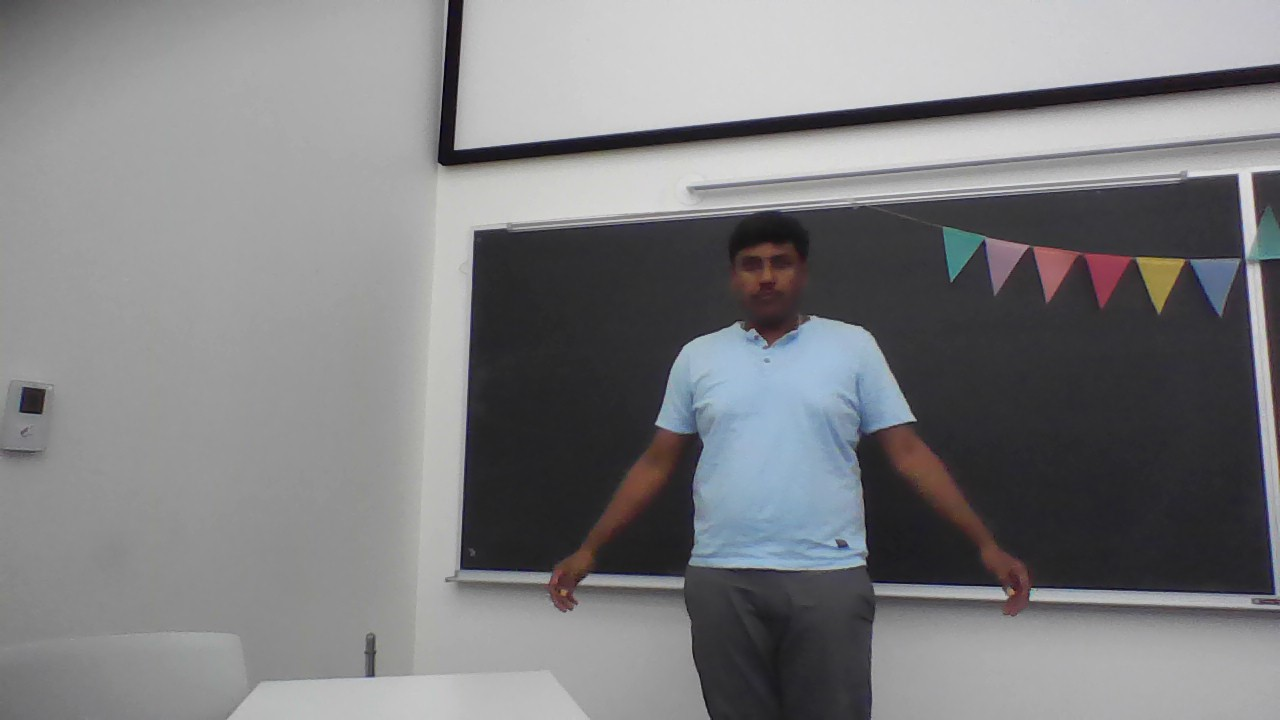height_frame: (623, 206, 928, 720)
hip_frame: (695, 558, 868, 590)
shoulder_frame: (675, 350, 882, 385)
waist_frame: (696, 472, 863, 505)
